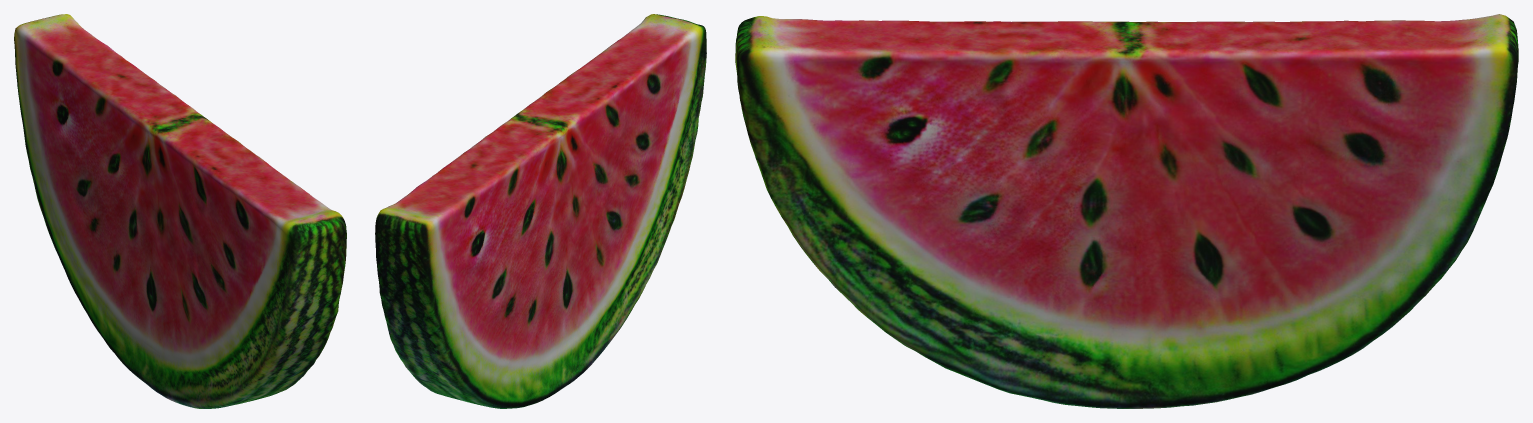
Rendered from slice_of_watermelon.glb.
The picture shows the model from 3 angles, left to right: view 1: azimuth 30°, elevation 25°; view 2: azimuth 150°, elevation 25°; view 3: azimuth 270°, elevation 25°; orthographic projection. The views are drawn at different scales.
Visible parts, largest first — view 1: mesh_base_material_0; view 2: mesh_base_material_0; view 3: mesh_base_material_0.
Part boxes in pixels (left/top/right/bottom): mesh_base_material_0: left=14, top=14, right=346, bottom=408; mesh_base_material_0: left=375, top=14, right=706, bottom=408; mesh_base_material_0: left=735, top=14, right=1518, bottom=408.
Size of the model in its own units: 0.1232 by 0.5142 by 0.9994.
1 material, 1 textured.
